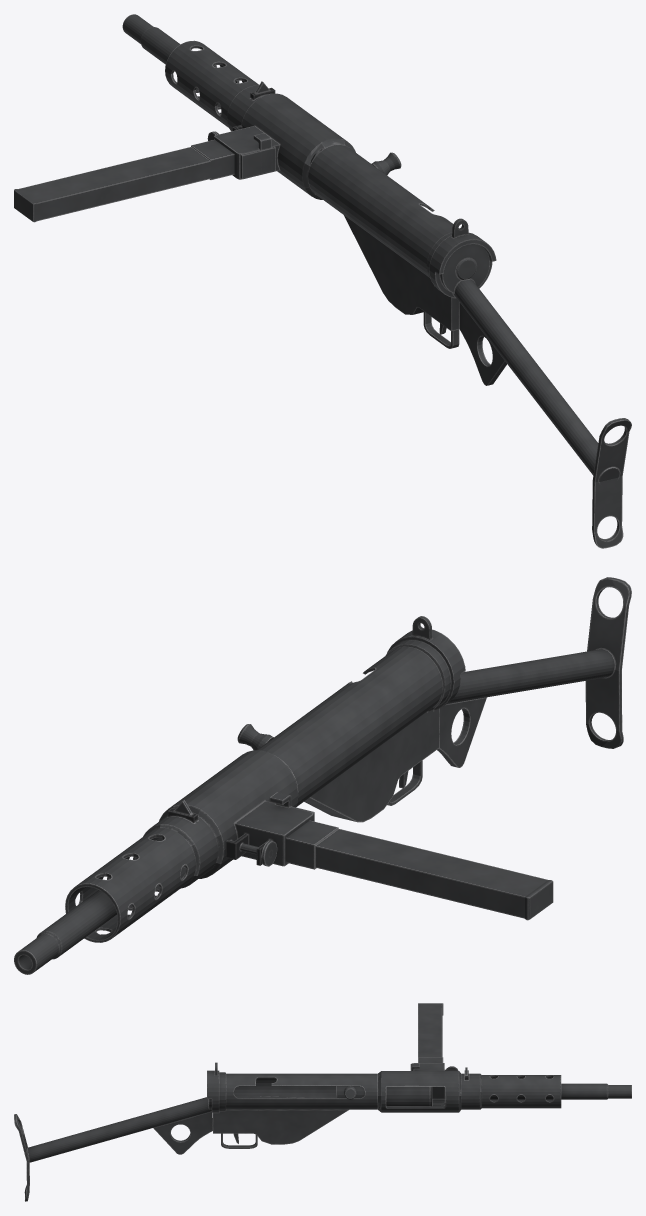
File: sten.fbx
The picture shows the model from 3 angles, top to bottom: view 1: azimuth 30°, elevation 25°; view 2: azimuth 150°, elevation 25°; view 3: azimuth 270°, elevation 25°; orthographic projection. The views are drawn at different scales.
Parts seen in each view (by area): view 1: Body, Magazine; view 2: Body, Magazine; view 3: Body, Magazine.
Boxes of the visible parts, left/top/right/bottom form: Body: left=122, top=14, right=631, bottom=548; Magazine: left=14, top=139, right=234, bottom=222; Body: left=14, top=577, right=631, bottom=974; Magazine: left=285, top=820, right=553, bottom=920; Body: left=14, top=1062, right=631, bottom=1201; Magazine: left=418, top=1003, right=443, bottom=1062.
Size of the model in its own units: 0.2808 by 0.1865 by 0.76.
Materials: 1 (1 with a texture image).
